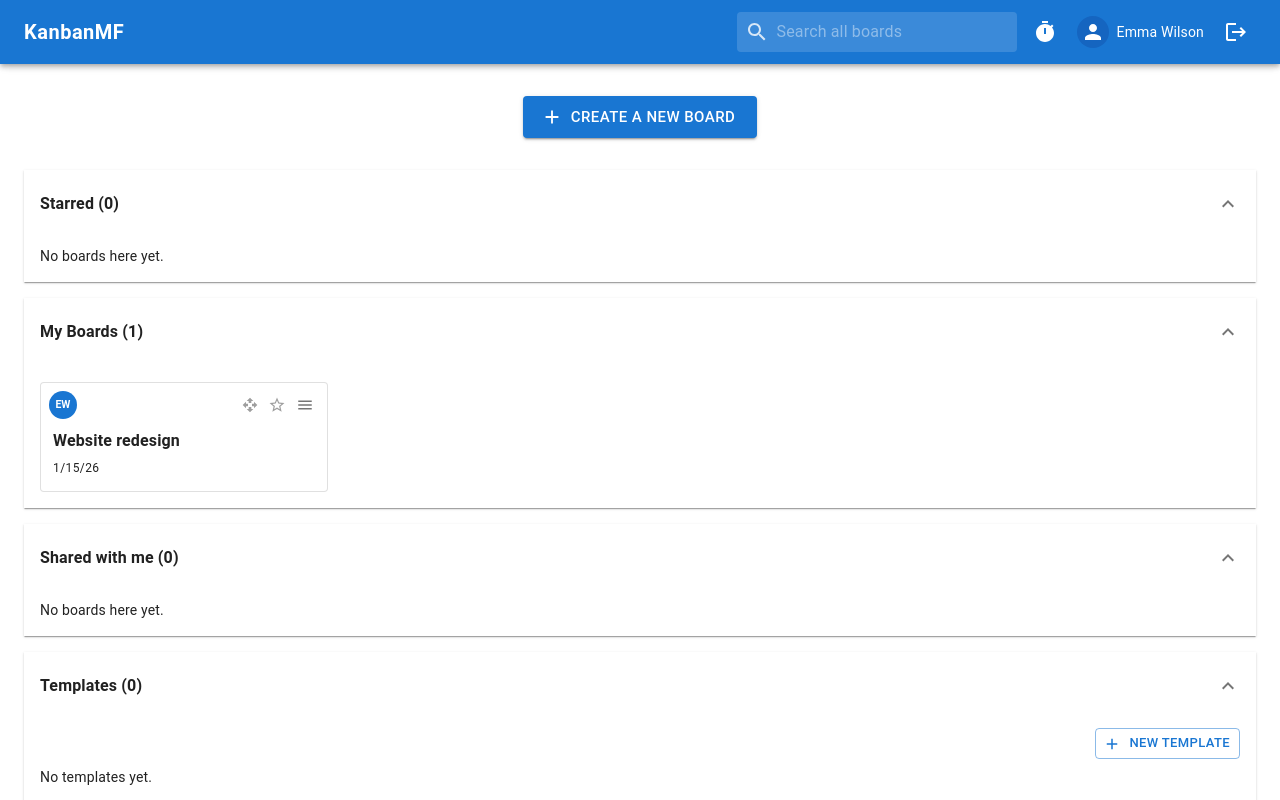
Test: Boards › creating › closes the dialog of Create a new Board with Cancel, creating nothing
The width and height of the screenshot is (1280, 800).
Click the button "Create a new Board" at x=640, y=117, box [523,96,757,138]
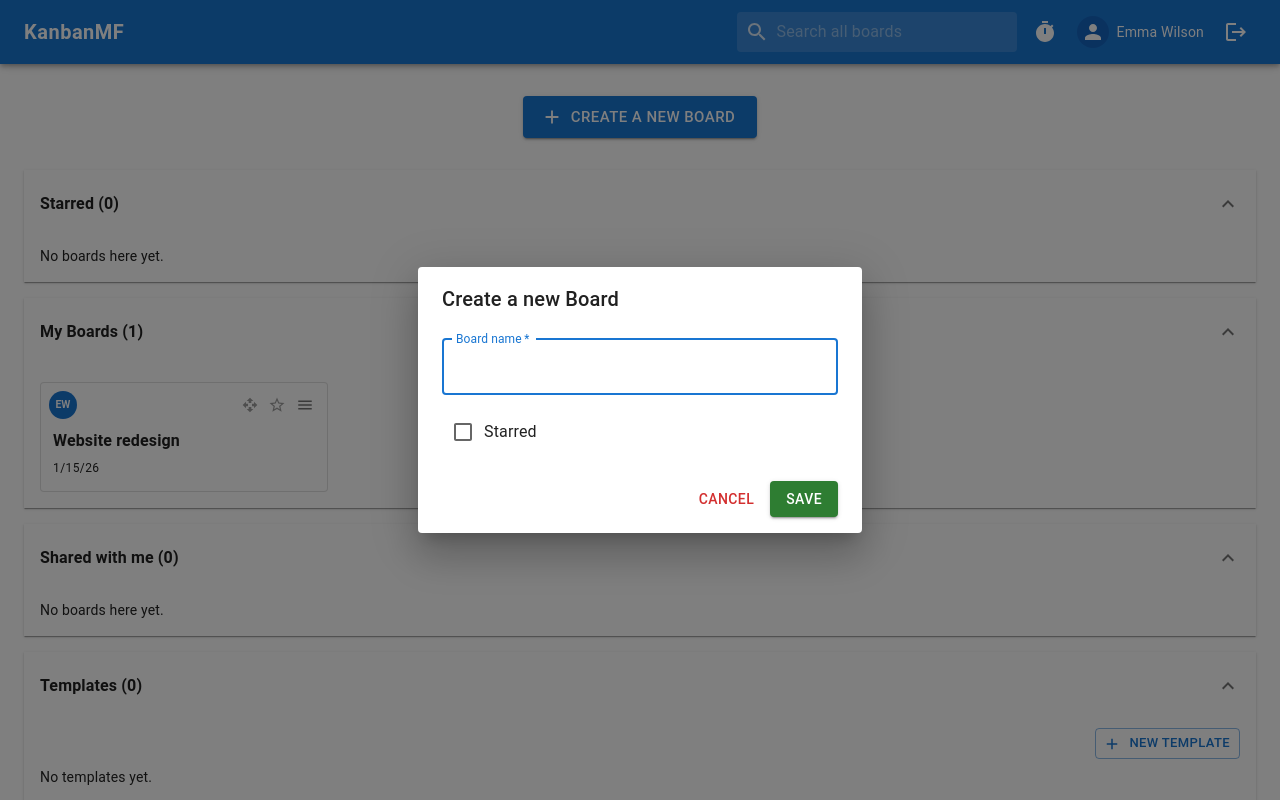
Click the button "Cancel" at x=726, y=499, box [691,481,762,517]
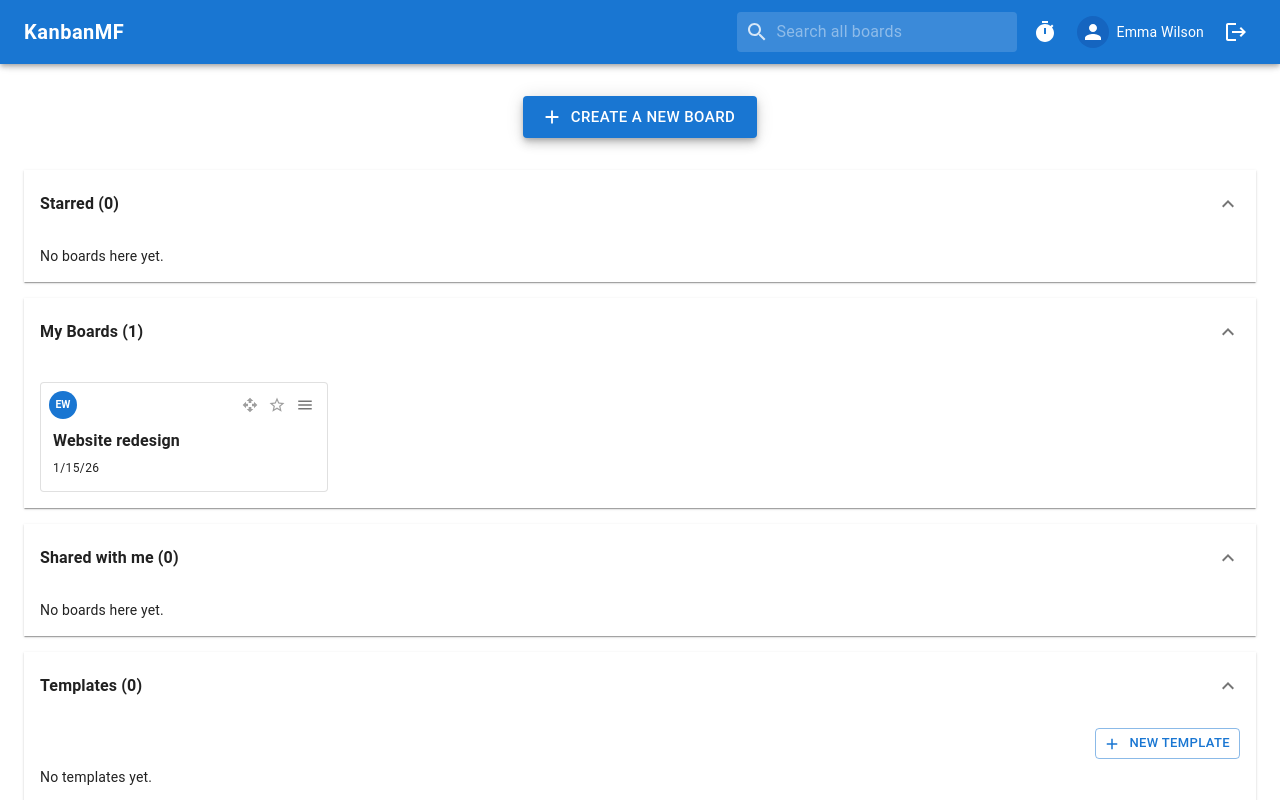
Result: the dialog is gone
